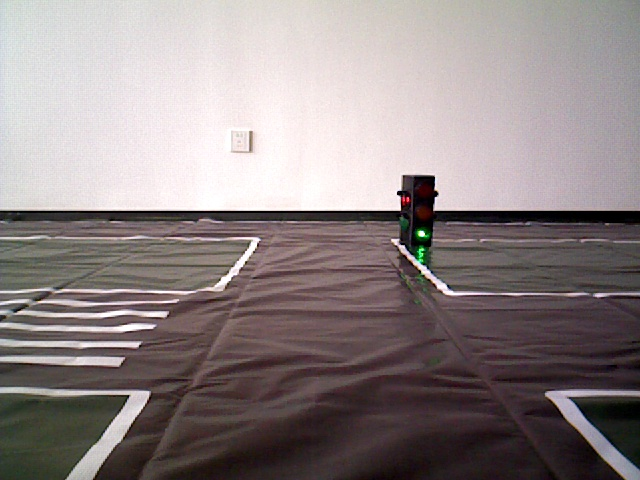green: (403, 174, 431, 243)
